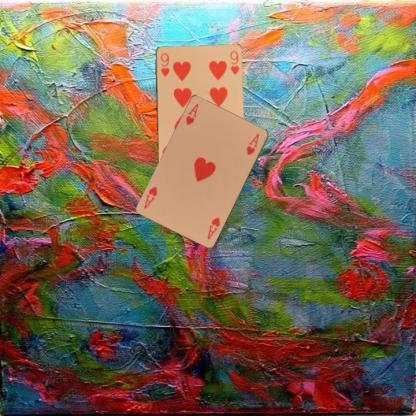9h: (158, 50, 170, 78)
Ah: (183, 100, 200, 126), (204, 214, 221, 240)
